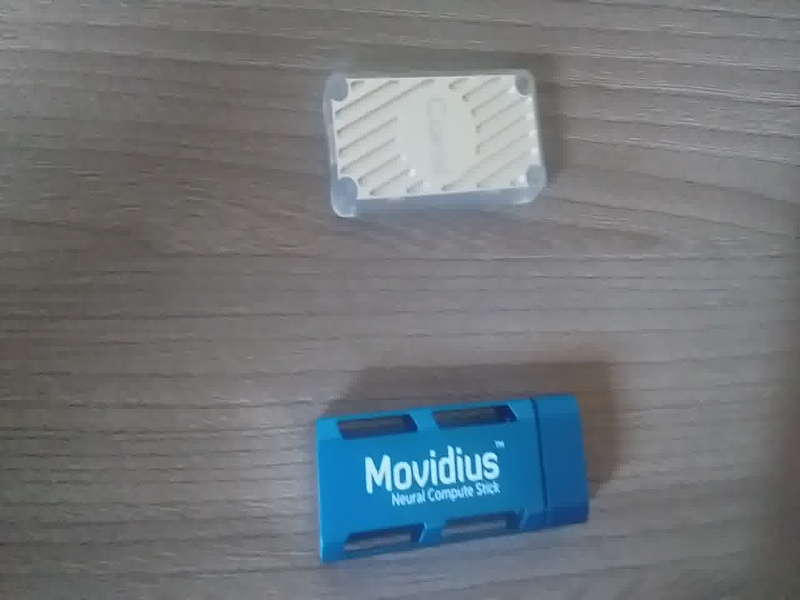coral: (313, 63, 560, 230)
movidius: (299, 392, 606, 564)
